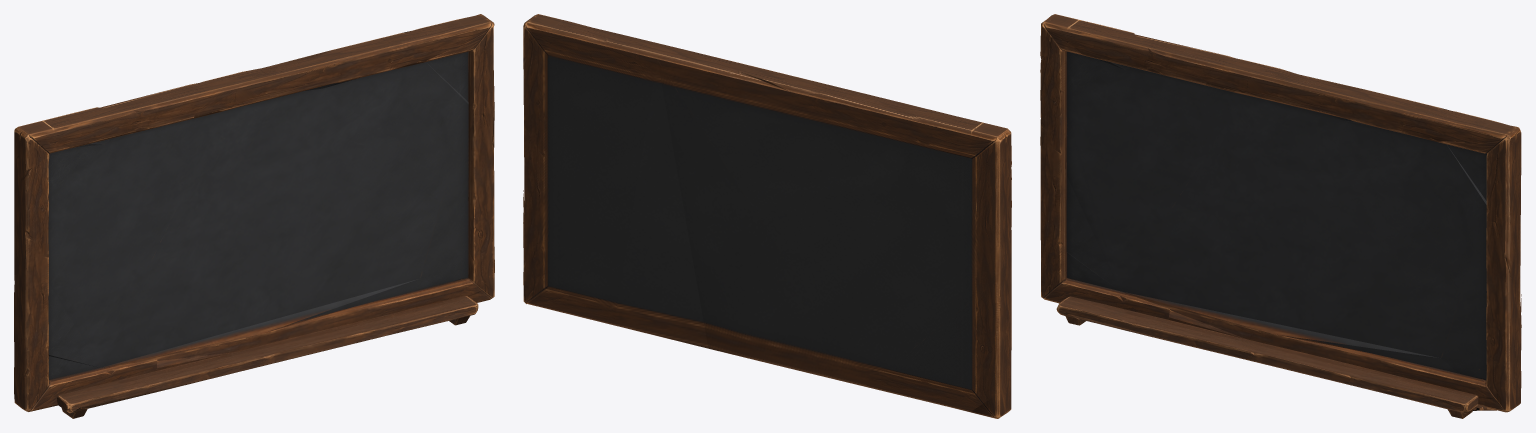
Rendered from wall_mounted_board.glb.
3 renders of one model, left to right at view 1: azimuth 30°, elevation 25°; view 2: azimuth 150°, elevation 25°; view 3: azimuth 330°, elevation 25°, orthographic.
Parts seen in each view (by area): view 1: output_unwrapped; view 2: output_unwrapped; view 3: output_unwrapped.
Part boxes in pixels (x1,y1,x2,y2): output_unwrapped: [14, 14, 494, 418]; output_unwrapped: [523, 14, 1011, 418]; output_unwrapped: [1040, 14, 1521, 418].
Bounding box in the file's own units: 1.9 × 1.11 × 0.1895.
Materials: 1 (1 with a texture image).
